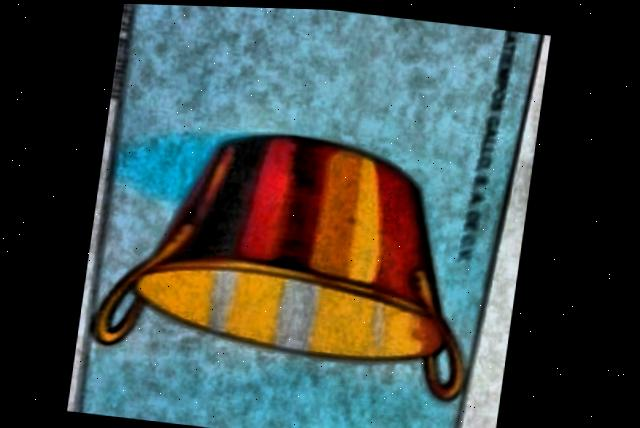El Cazo: (81, 3, 545, 428)
